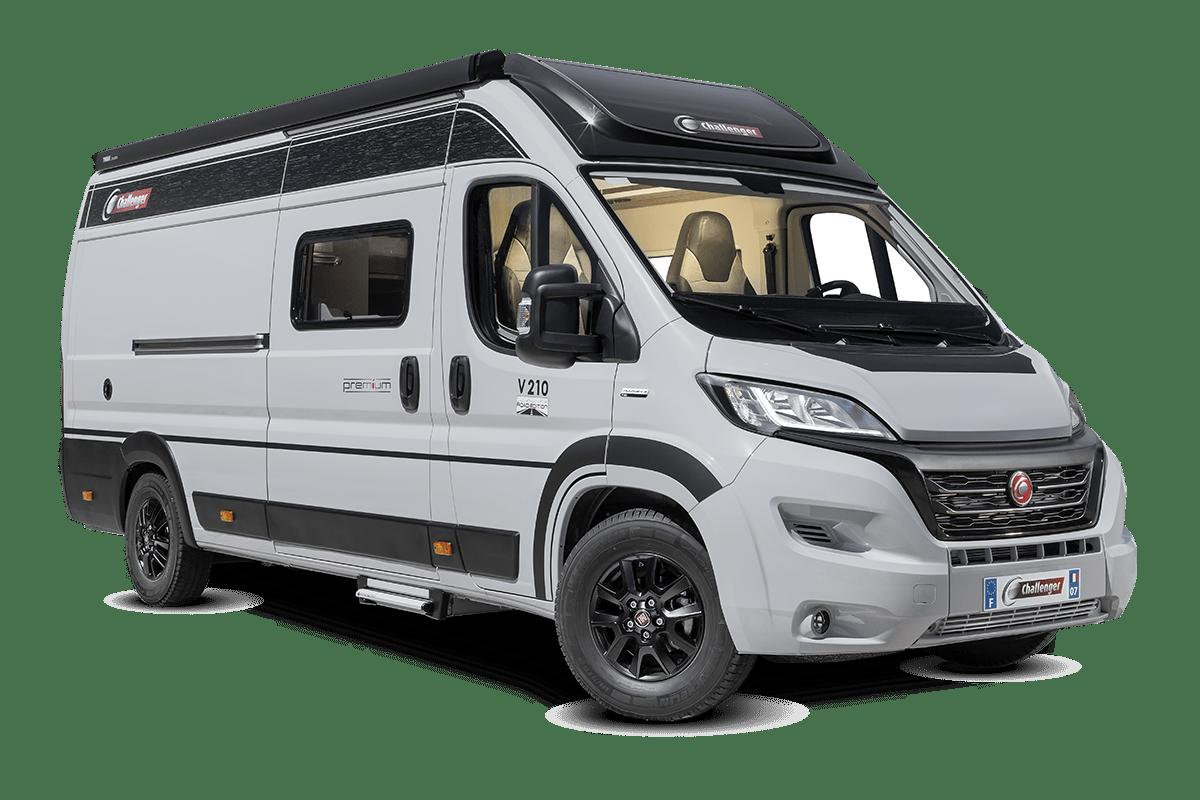car: (52, 38, 1144, 733)
